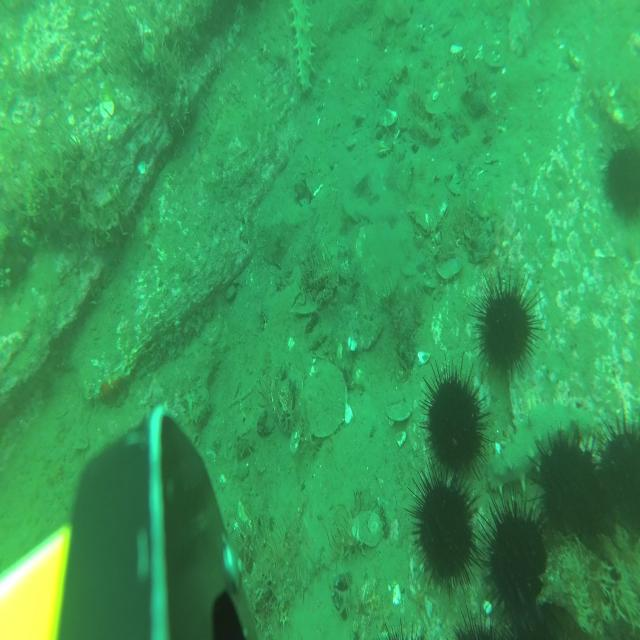echinus: (419, 354, 494, 488), (406, 462, 480, 596), (529, 423, 603, 544), (468, 265, 544, 379), (483, 494, 546, 622), (596, 406, 640, 543), (600, 135, 640, 228), (451, 600, 500, 640), (504, 611, 558, 640), (374, 618, 428, 640)
holothurian: (487, 406, 595, 495), (288, 0, 316, 90)
scallop: (303, 362, 348, 439), (353, 509, 383, 549), (385, 390, 413, 422), (384, 0, 413, 28)
